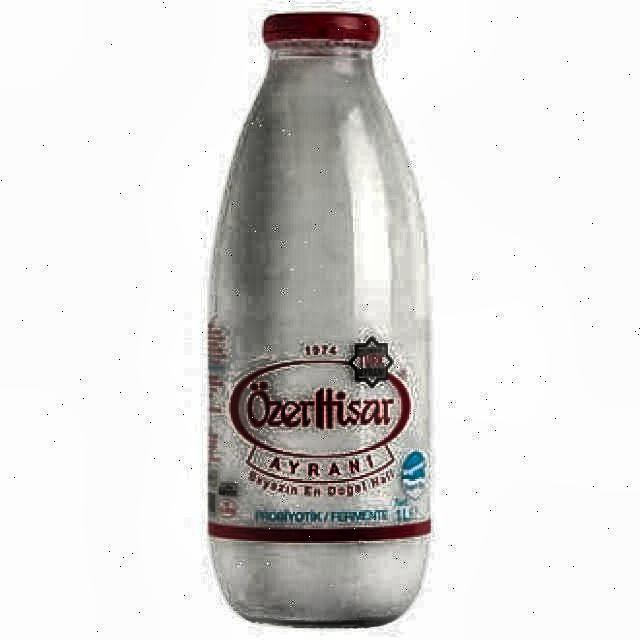glass: (203, 12, 438, 630)
